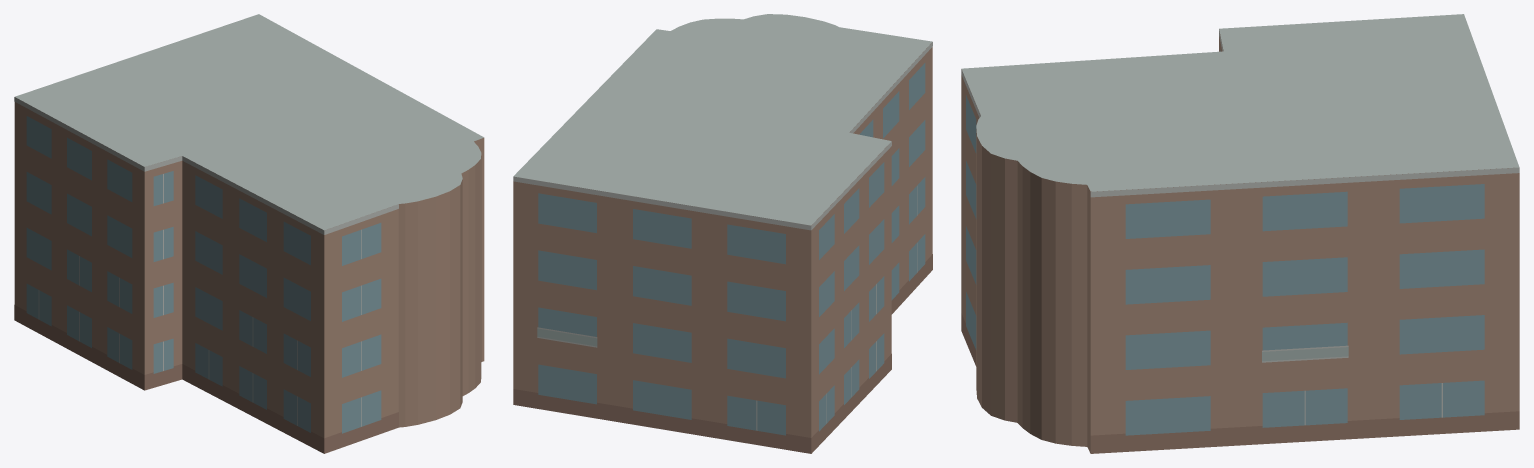
The model's file is survey-upis-32915669.glb.
3 renders of one model, left to right at view 1: azimuth 30°, elevation 25°; view 2: azimuth 150°, elevation 25°; view 3: azimuth 270°, elevation 25°, orthographic. The views are drawn at different scales.
Visible parts, largest first — view 1: survey-upis-32915669.tmp; view 2: survey-upis-32915669.tmp; view 3: survey-upis-32915669.tmp.
Part boxes in pixels (box(x1,y1,x2,y2)): survey-upis-32915669.tmp: box(14, 14, 484, 453); survey-upis-32915669.tmp: box(513, 14, 932, 453); survey-upis-32915669.tmp: box(961, 14, 1519, 453).
Size of the model in its own units: 16.59 by 11.4 by 22.02.
